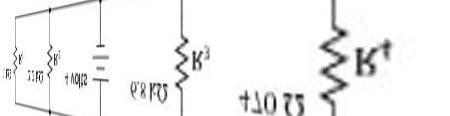resistor: (314, 13, 351, 97), (164, 30, 189, 95), (41, 39, 55, 78)
